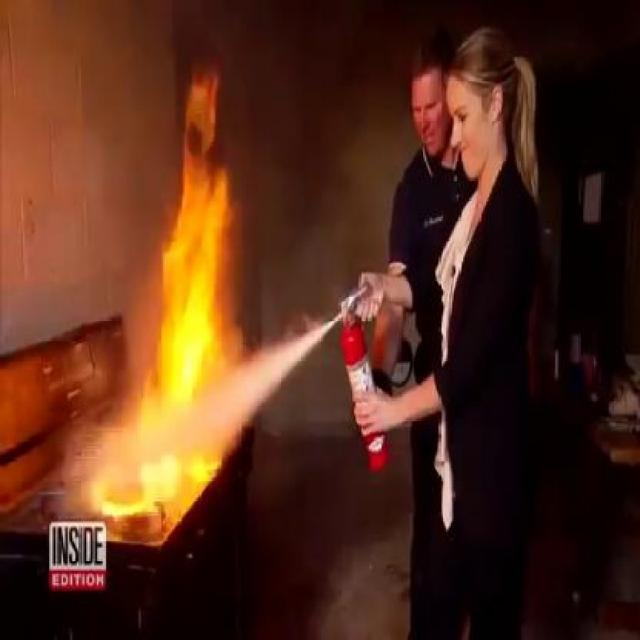fire: (150, 90, 264, 348)
